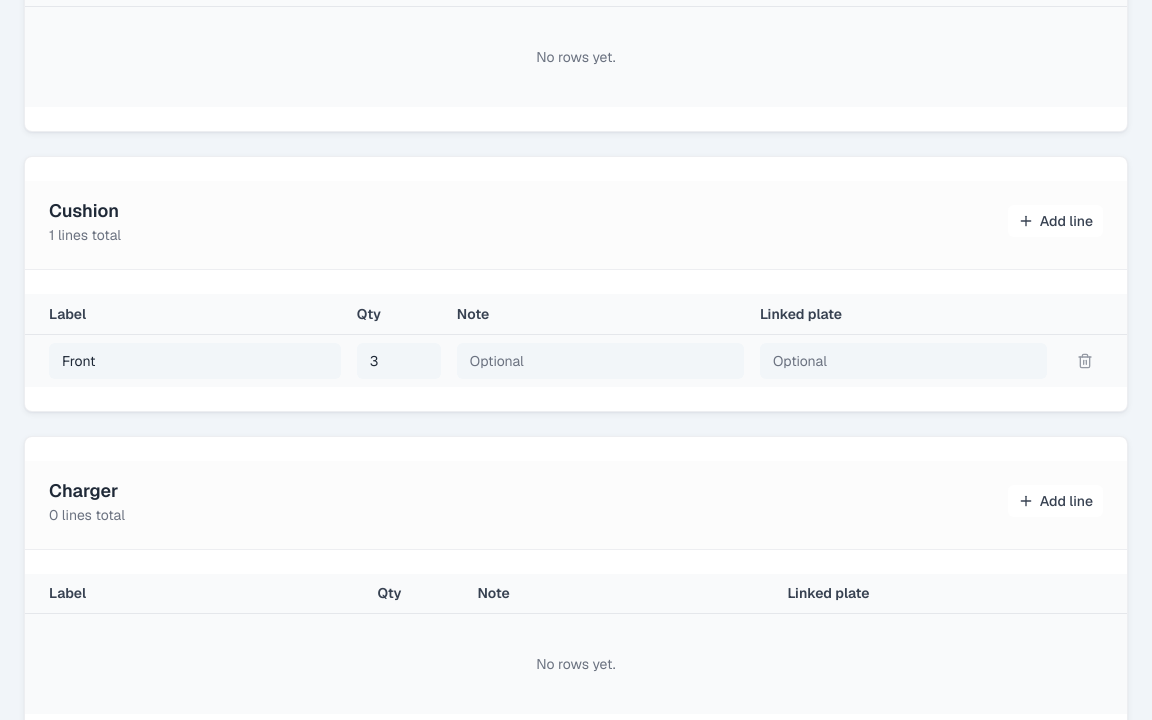
Test: AccessoriesPage › linked plate input (Bug 4) › shows an inline error when the value doesn't match a known plate
The image size is (1152, 720).
(page scrolled)
Expected: the field showing "Front" is shown, x1=49 y1=342 x2=341 y2=378
Type "CUSTOM_PLATE_123" into the 2nd field with placeholder "Optional" at (903, 360), box x1=760 y1=342 x2=1047 y2=378
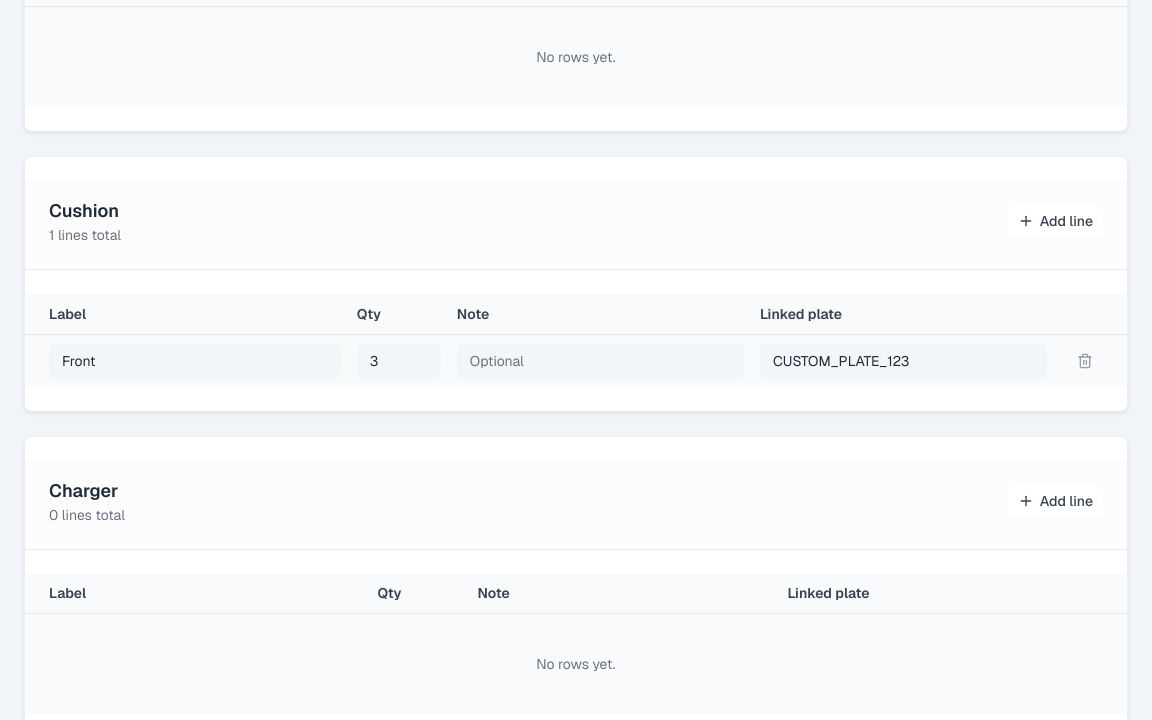
Leave the 2nd field with placeholder "Optional", box x1=760 y1=342 x2=1047 y2=378
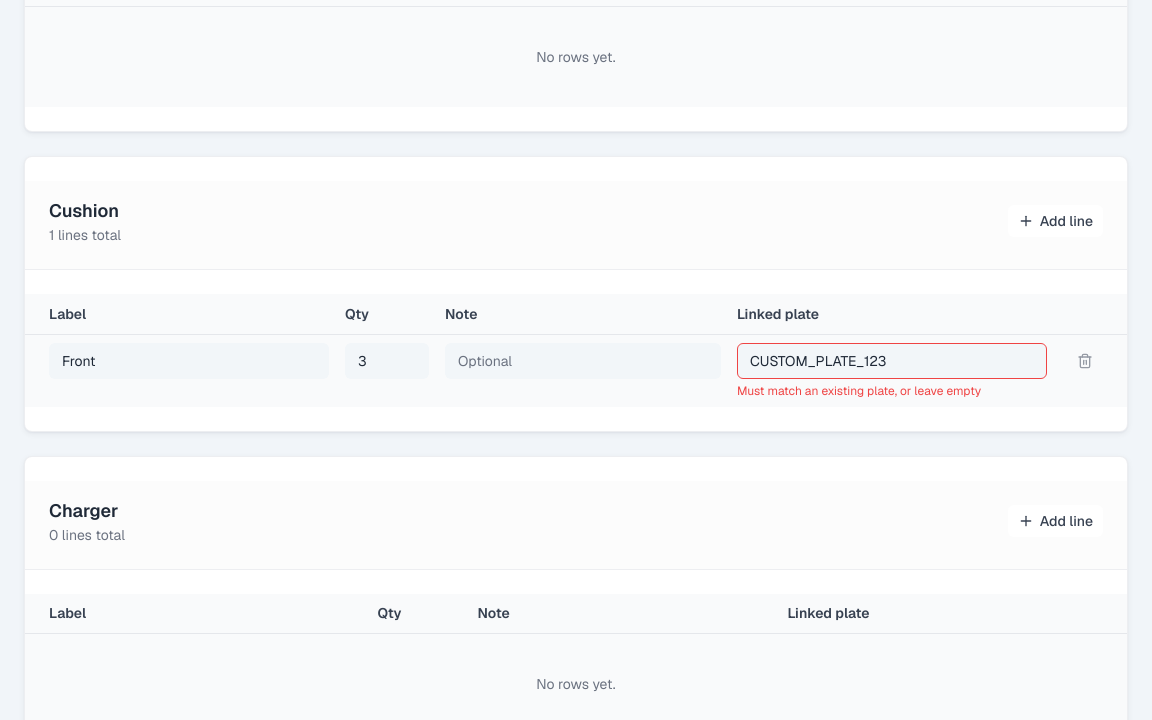
Expected: the message shows "match an existing plate", x1=737 y1=382 x2=981 y2=398
